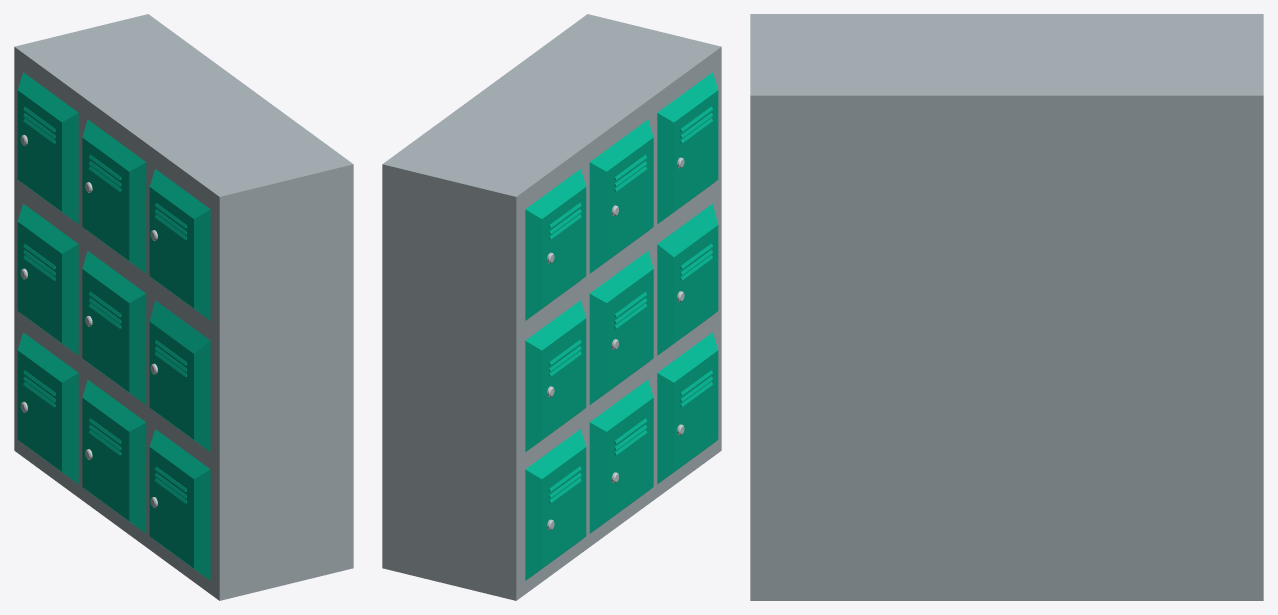
File: Locker 9 doors.fbx
3 renders of one model, left to right at view 1: azimuth 30°, elevation 25°; view 2: azimuth 150°, elevation 25°; view 3: azimuth 270°, elevation 25°, orthographic. The views are drawn at different scales.
Visible parts, largest first — view 1: polySurface13, polySurface20, polySurface17, polySurface14, polySurface22, polySurface18, polySurface25, polySurface16, polySurface15, polySurface19; view 2: polySurface13, polySurface20, polySurface17, polySurface14, polySurface18, polySurface15, polySurface22, polySurface25, polySurface16, polySurface19; view 3: polySurface13.
Part boxes in pixels (x1=…): polySurface13: x1=14, y1=14, x2=353, y2=600; polySurface20: x1=82, y1=119, x2=146, y2=273; polySurface17: x1=82, y1=251, x2=146, y2=404; polySurface14: x1=82, y1=380, x2=146, y2=533; polySurface22: x1=149, y1=169, x2=210, y2=320; polySurface18: x1=17, y1=72, x2=78, y2=223; polySurface25: x1=17, y1=332, x2=78, y2=484; polySurface16: x1=149, y1=429, x2=210, y2=580; polySurface15: x1=17, y1=204, x2=78, y2=355; polySurface19: x1=149, y1=300, x2=210, y2=451; polySurface13: x1=382, y1=14, x2=721, y2=600; polySurface20: x1=589, y1=119, x2=653, y2=273; polySurface17: x1=589, y1=251, x2=653, y2=404; polySurface14: x1=589, y1=380, x2=653, y2=533; polySurface18: x1=525, y1=169, x2=586, y2=320; polySurface15: x1=525, y1=300, x2=586, y2=451; polySurface22: x1=657, y1=72, x2=718, y2=223; polySurface25: x1=525, y1=429, x2=586, y2=580; polySurface16: x1=657, y1=332, x2=718, y2=484; polySurface19: x1=657, y1=204, x2=718, y2=355; polySurface13: x1=750, y1=14, x2=1263, y2=600.
Size of the model in its own units: 1.1 by 2.88 by 2.65.
Materials: 1 (1 with a texture image).
